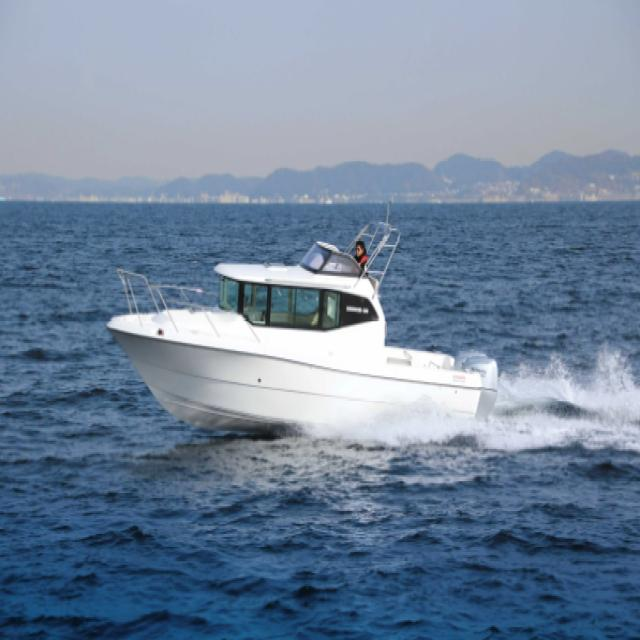houseboat: (101, 204, 501, 448)
